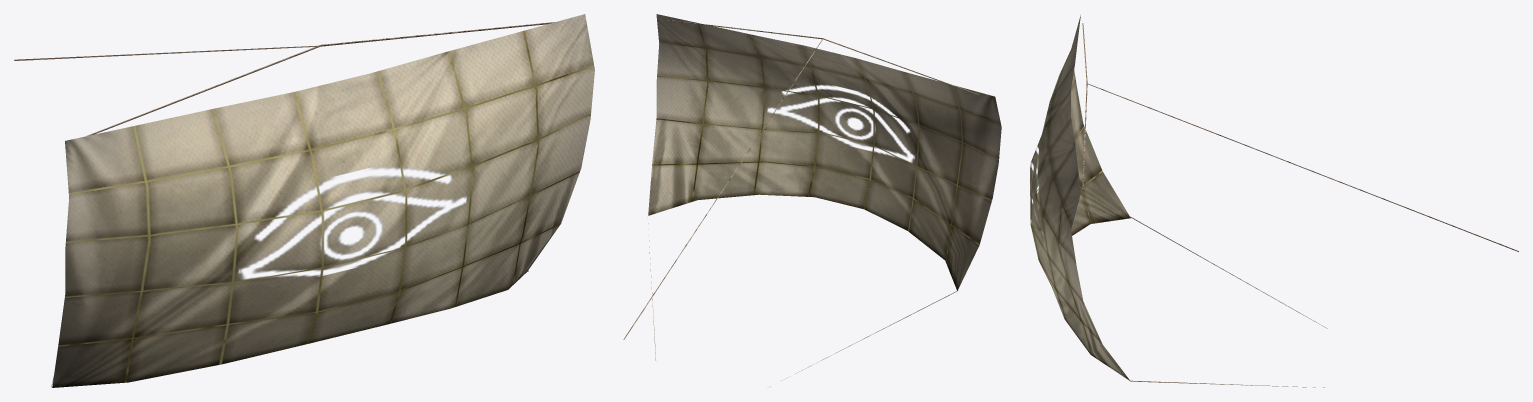
File: hele_trireme_mainsail.glb
The picture shows the model from 3 angles, left to right: view 1: azimuth 30°, elevation 25°; view 2: azimuth 150°, elevation 25°; view 3: azimuth 270°, elevation 25°; orthographic projection. The views are drawn at different scales.
Visible parts, largest first — view 1: Plane; view 2: Plane; view 3: Plane.
Boxes of the visible parts, x1,y1,x2,y2 form: Plane: (14,14,594,387); Plane: (623,14,1001,380); Plane: (1030,15,1518,387).
Bounding box in the file's own units: 19.23 × 13.66 × 21.95.
1 material, 1 textured.
